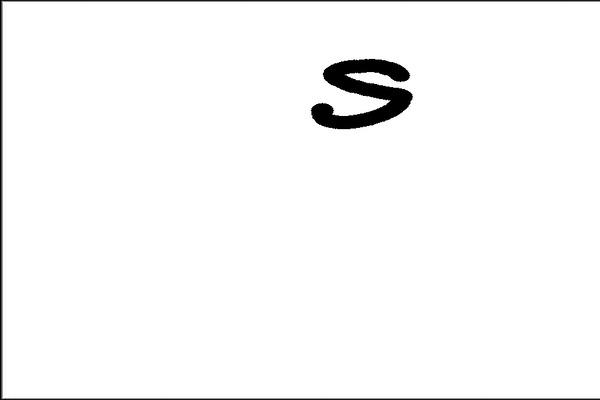S: (307, 54, 419, 134)
